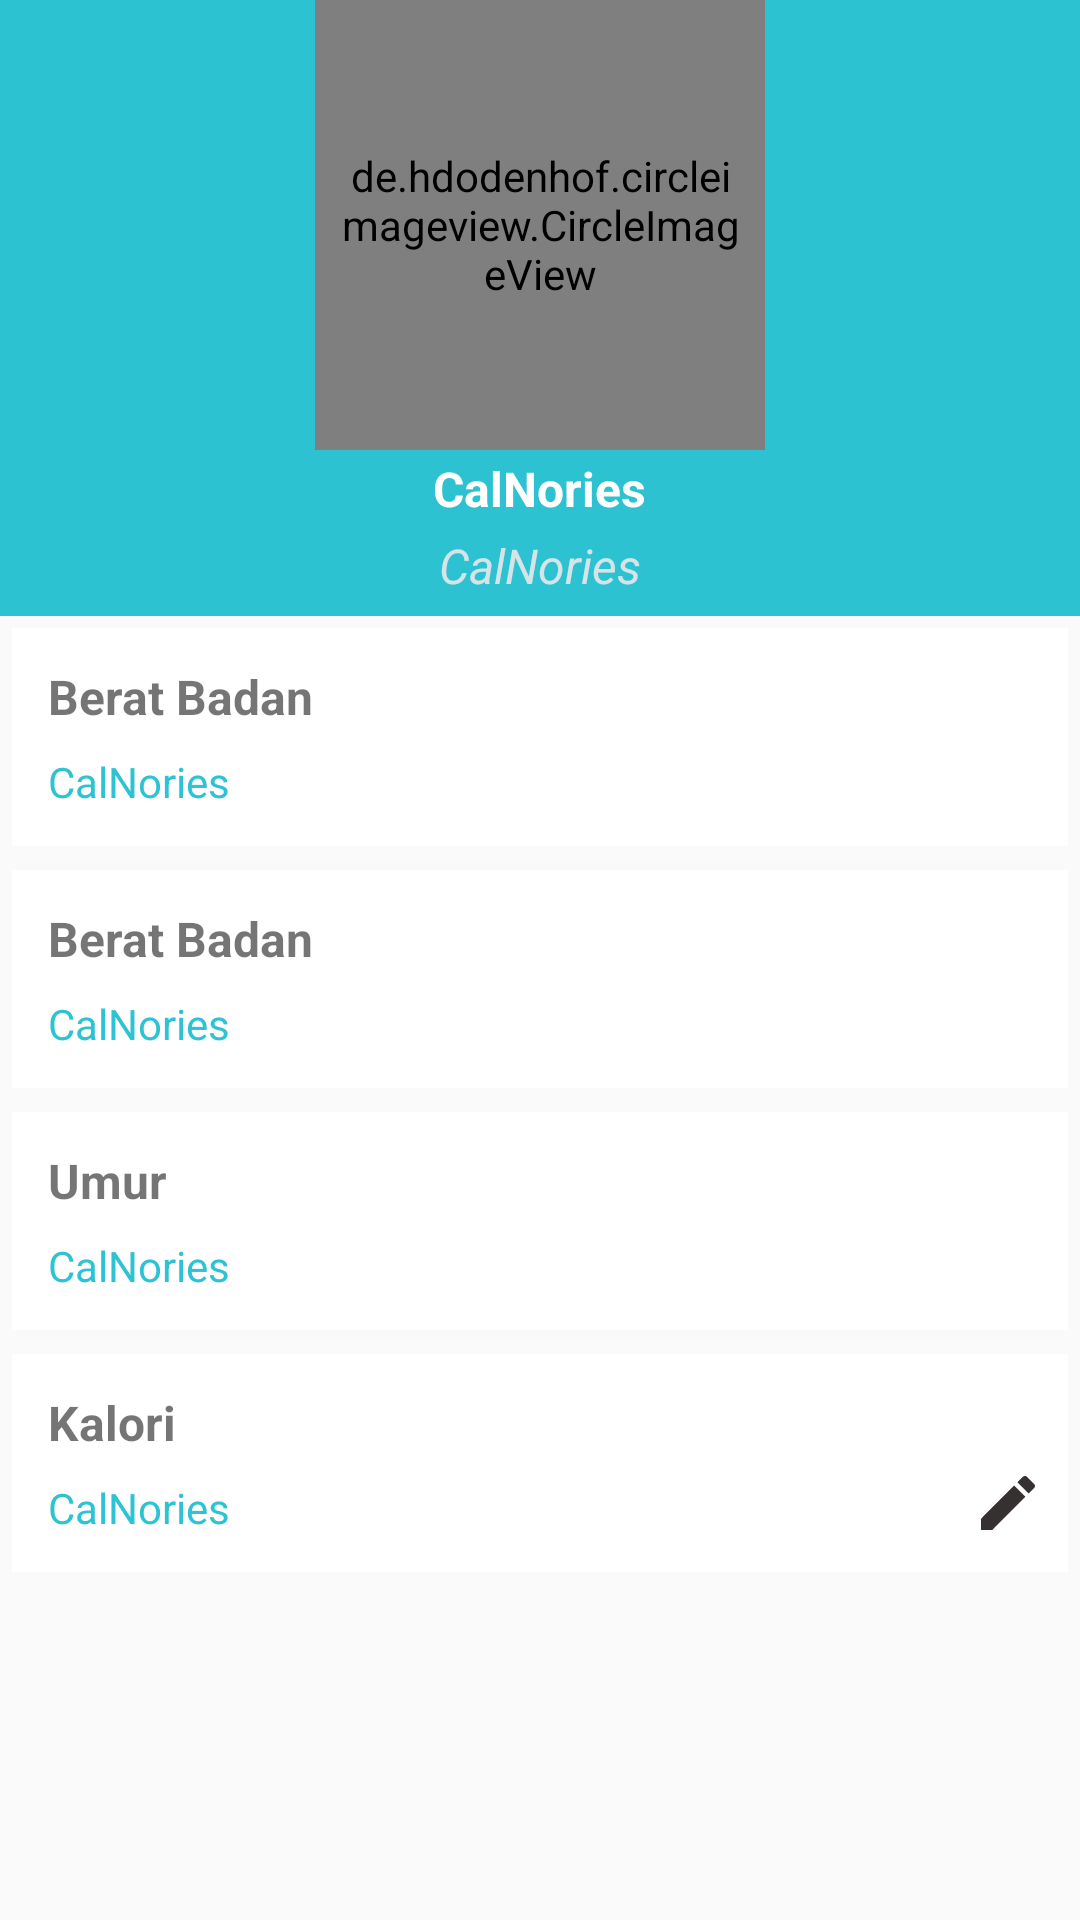

Where to tap for icons on this 1080 × 1920 app screen, as (x=x, y=y):
edit: (x=1008, y=1503)
